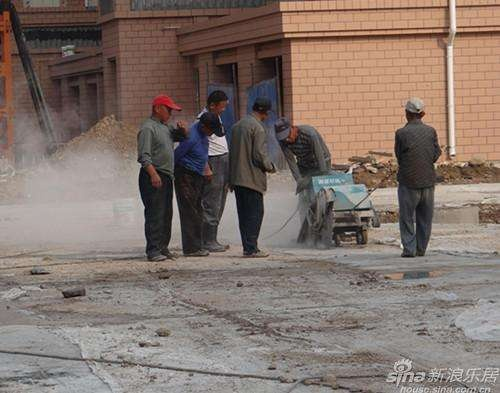none: (273, 115, 295, 146), (196, 109, 218, 138), (251, 94, 273, 123), (206, 88, 228, 115)
red: (148, 92, 175, 124)
white: (402, 94, 428, 126)
